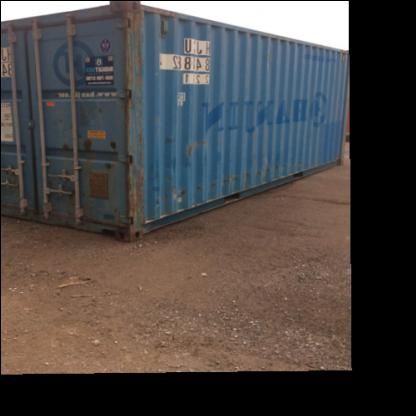Damage: (166, 155, 312, 200), (117, 0, 146, 92), (114, 152, 144, 220), (121, 90, 148, 155), (58, 182, 86, 210), (182, 132, 206, 158), (80, 128, 96, 156), (104, 137, 121, 153), (57, 136, 72, 154), (98, 156, 114, 172)
